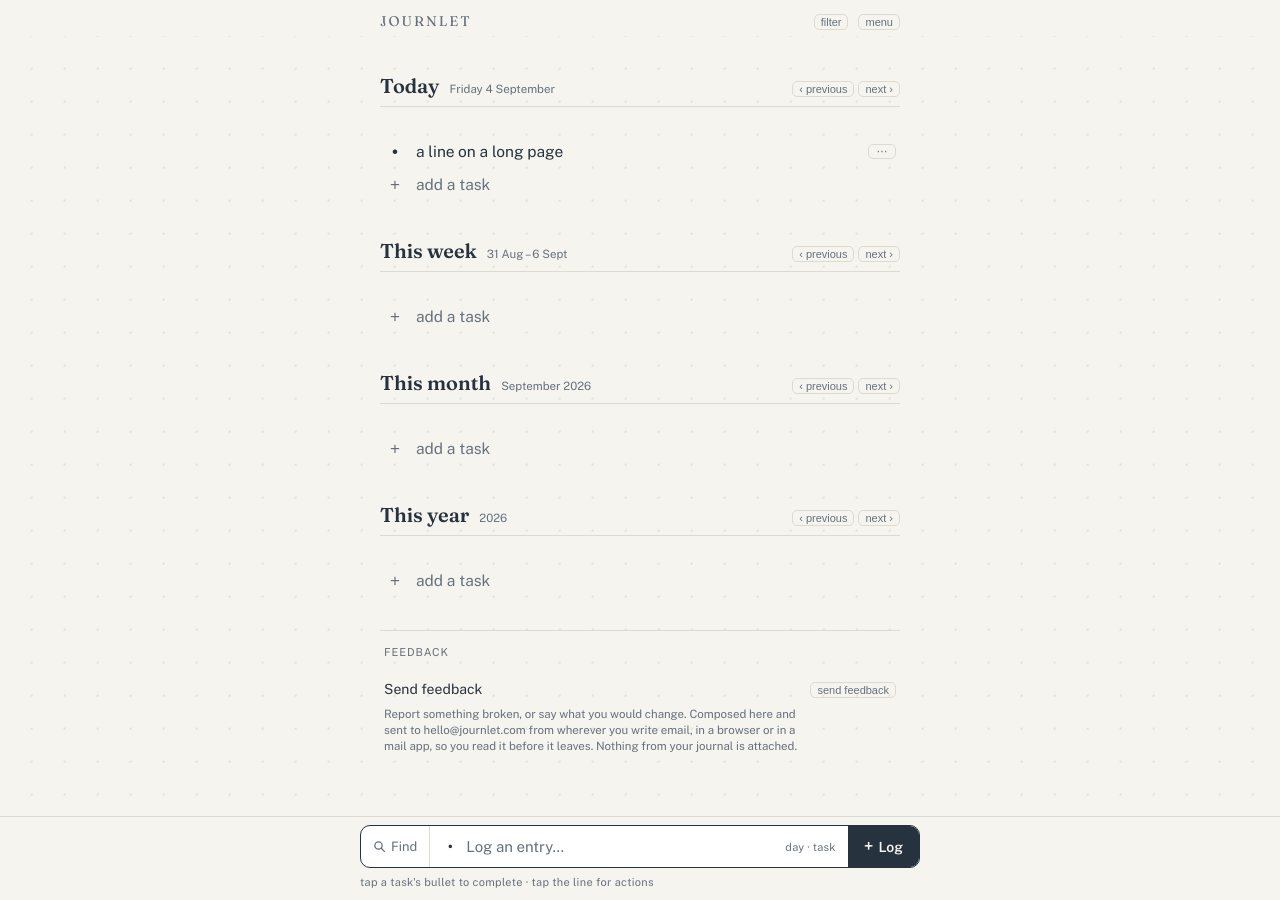
Test case: opening a screen from a page that was scrolled › and back returns to where that page was left
(page scrolled)
Click the button "send feedback". click: (853, 690)
box: 810,682 -> 896,698
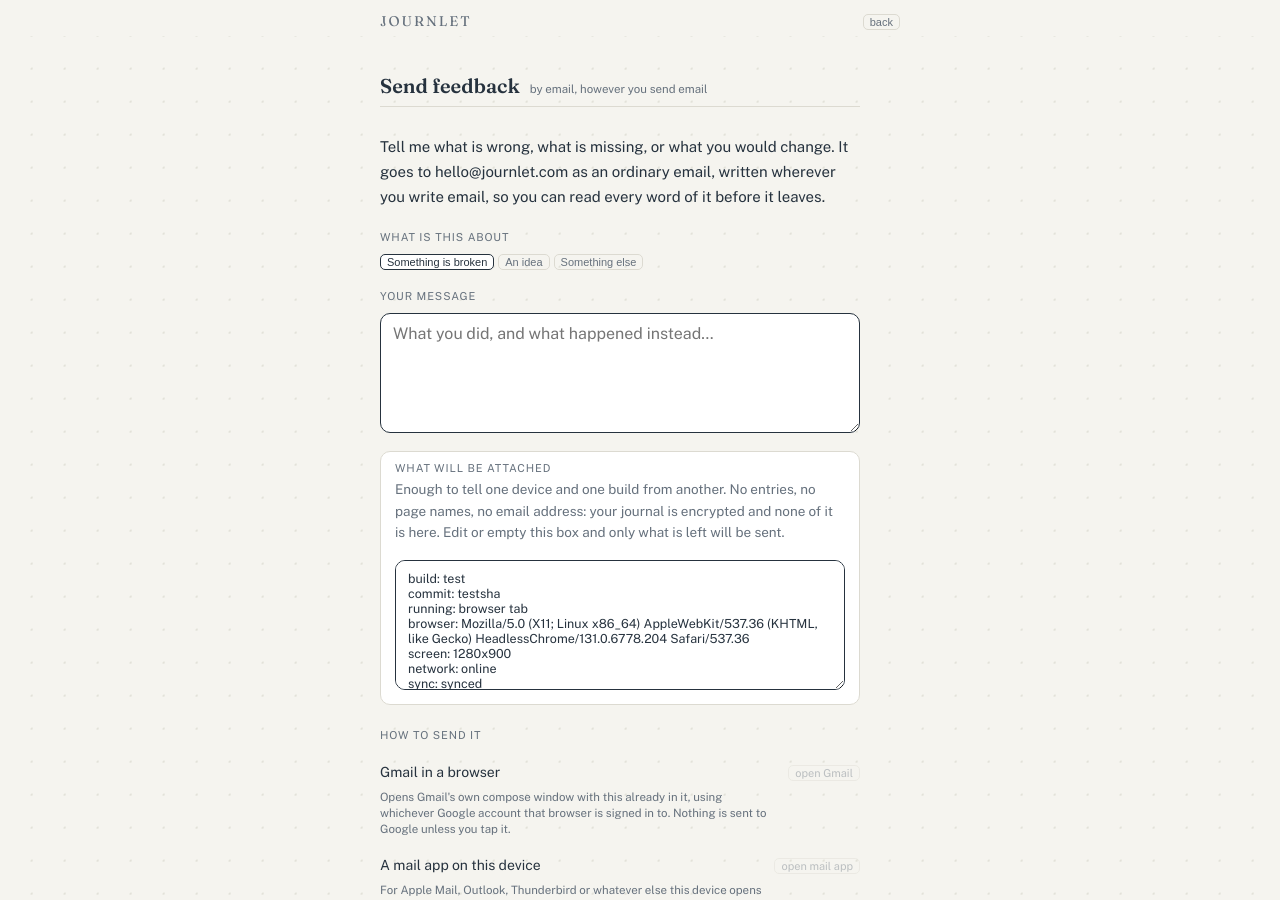
Click the button "back". click: (881, 22)
box: 863,14 -> 900,30
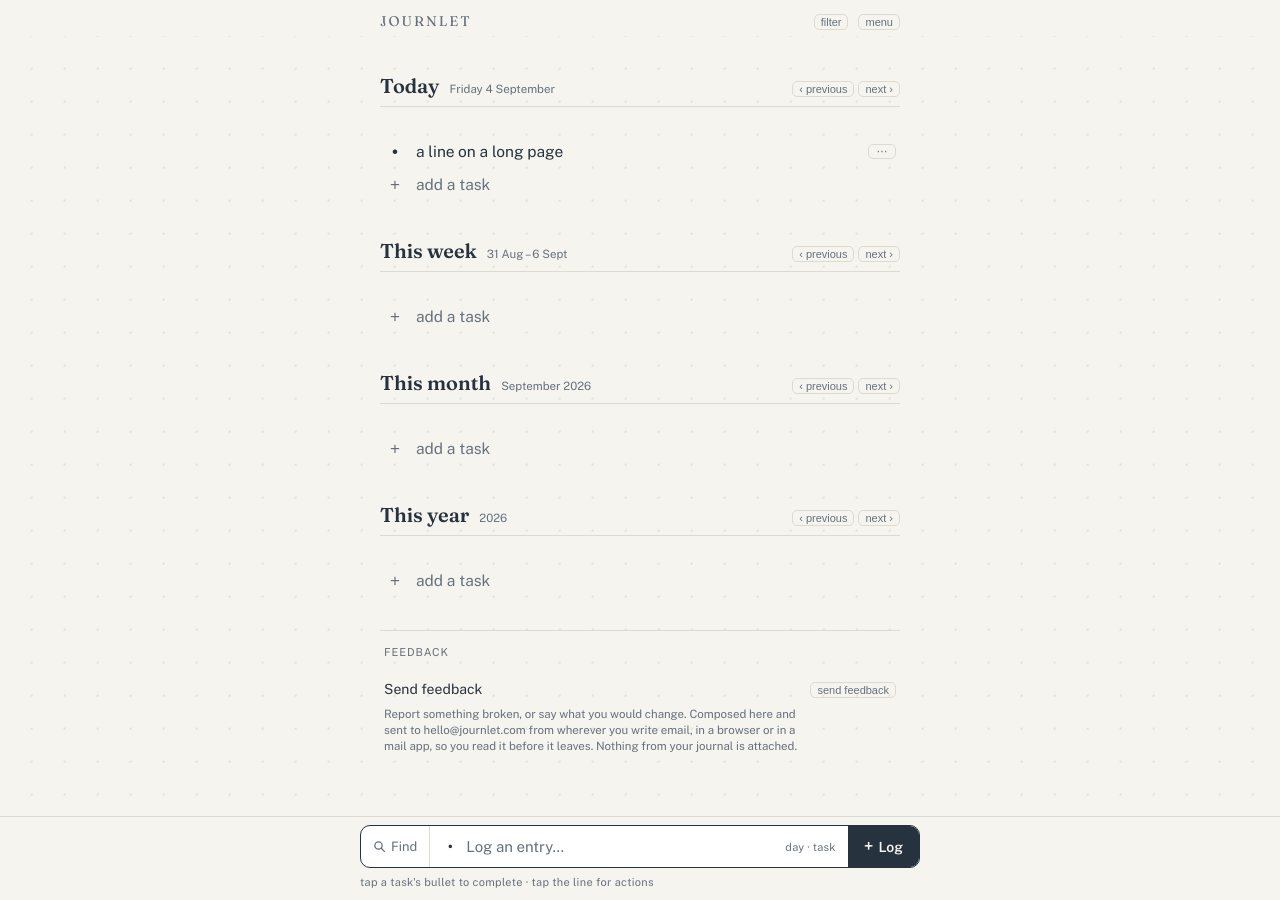
Expected: the text "a line on a long page" is shown, 416,142 -> 563,160
